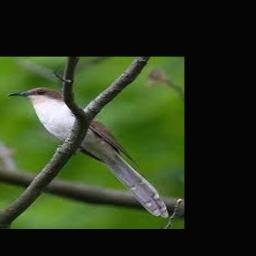Cuckoo: (8, 87, 168, 218)
